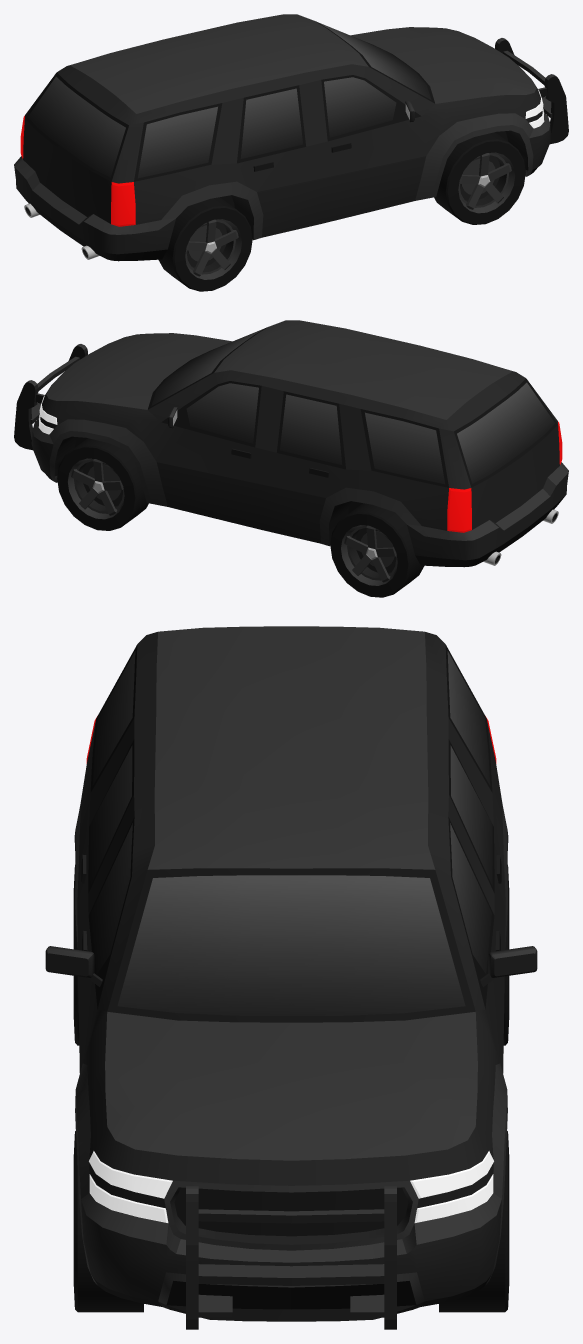
File: Car_131.glb
3 views of the same model, one above another, from view 1: azimuth 30°, elevation 25°; view 2: azimuth 150°, elevation 25°; view 3: azimuth 270°, elevation 25° (orthographic). The views are drawn at different scales.
Parts seen in each view (by area): view 1: Car_131, wheel_3_Car_131_Wheel_2R, wheel_1_Car_131_Wheel_1R; view 2: Car_131, wheel_2_Car_131_Wheel_2L, wheel_0_Car_131_Wheel_1L; view 3: Car_131, wheel_1_Car_131_Wheel_1R, wheel_0_Car_131_Wheel_1L.
Boxes of the visible parts, x1,y1,x2,y2 form: Car_131: (14, 14, 568, 261); wheel_3_Car_131_Wheel_2R: (158, 197, 252, 291); wheel_1_Car_131_Wheel_1R: (434, 132, 525, 224); Car_131: (14, 320, 568, 567); wheel_2_Car_131_Wheel_2L: (330, 503, 424, 597); wheel_0_Car_131_Wheel_1L: (57, 438, 148, 530); Car_131: (45, 626, 537, 1329); wheel_1_Car_131_Wheel_1R: (73, 1131, 143, 1312); wheel_0_Car_131_Wheel_1L: (439, 1131, 509, 1312).
Bounding box in the file's own units: 4.77 × 1.7 × 2.08.
Materials: 3 (3 with a texture image).
